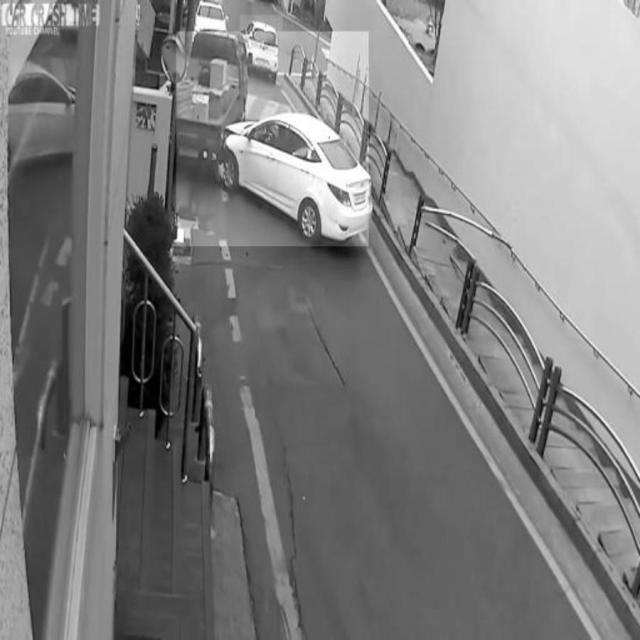accident: (177, 32, 369, 247)
vehicle: (240, 16, 282, 83)
